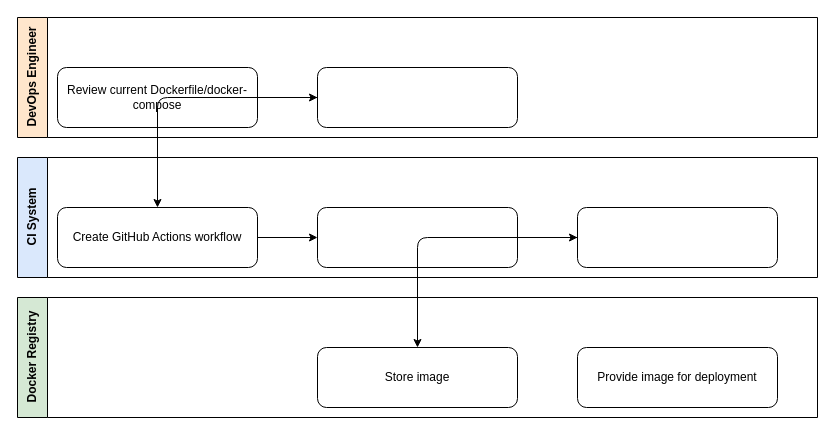
The diagram is 835 pixels wide and 435 high, and some of its shapes have lost their labels. The shapes that lost their labels are listed below. From the top down, each one's centre as x and y in pixels, then its label:
(417,97): Define proposal requirements
(417,237): Build Docker image
(677,237): Push image to registry
